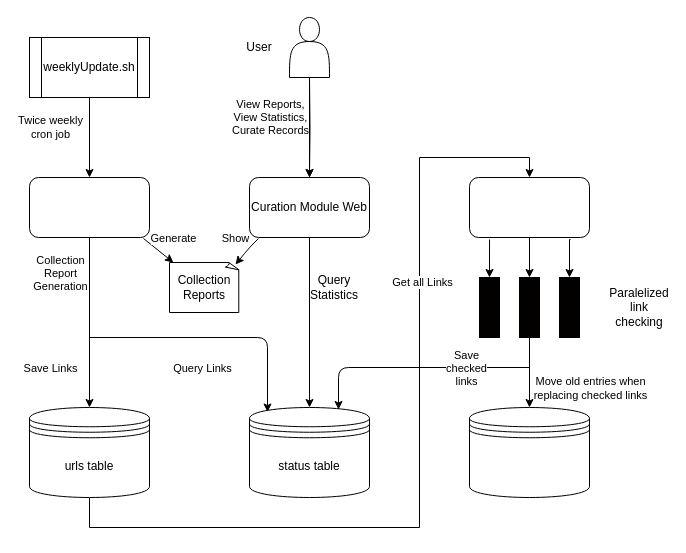
Some shapes in this 686 by 553 pixel diagram are drawn without their labels. Each missing label, with the centre of its shape:
Curation Module Core: point 89,207
history table: point 529,452
Stormychecker: point 529,207
